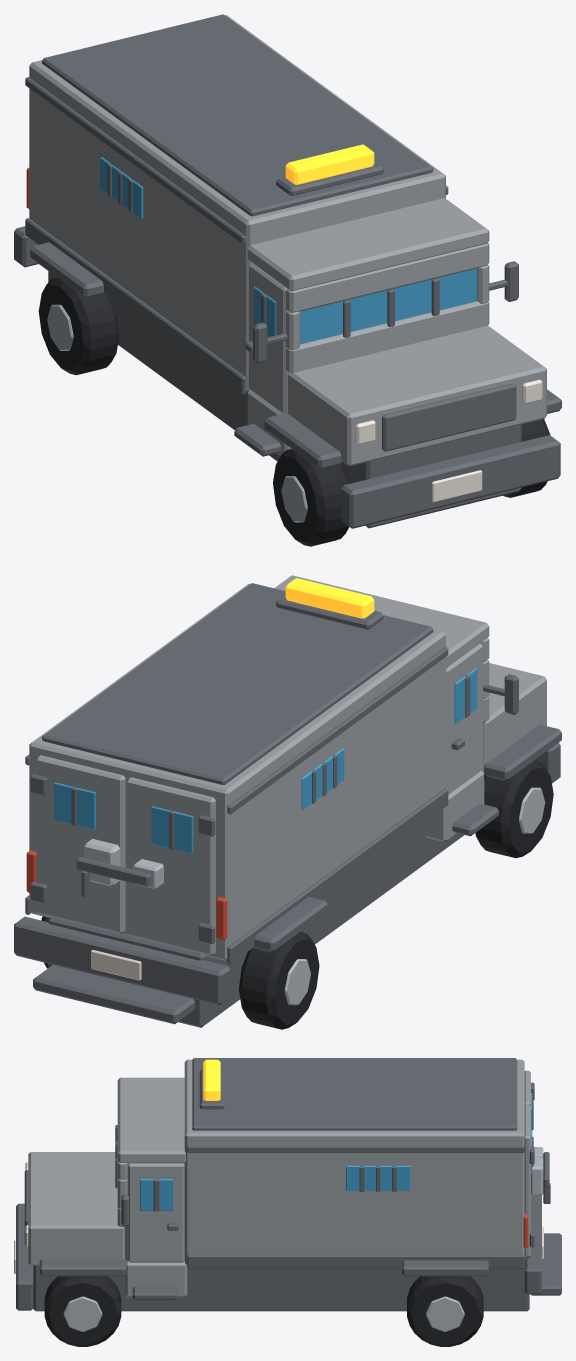
The model's file is armoured-cash-van.glb.
3 views of the same model, one above another, from view 1: azimuth 30°, elevation 25°; view 2: azimuth 150°, elevation 25°; view 3: azimuth 270°, elevation 25° (orthographic). The views are drawn at different scales.
Parts seen in each view (by area): view 1: CashVan, Wheel_RR, Wheel_FR, Door_Passenger, RoofLight, Wheel_FL; view 2: CashVan, Door_RearR, Door_RearL, Wheel_RR, Wheel_FR, Door_Passenger, RoofLight; view 3: CashVan, Door_Driver, Wheel_FL, Wheel_RL, Door_RearR, RoofLight, Door_RearL.
Boxes of the visible parts, x1,y1,x2,y2 form: CashVan: (14, 14, 561, 528); Wheel_RR: (38, 277, 119, 375); Wheel_FR: (273, 448, 350, 546); Door_Passenger: (245, 262, 288, 413); RoofLight: (276, 144, 383, 195); Wheel_FL: (503, 419, 550, 497); CashVan: (14, 575, 561, 1027); Door_RearR: (30, 755, 150, 933); Door_RearL: (126, 777, 215, 955); Wheel_RR: (238, 931, 319, 1029); Wheel_FR: (475, 760, 553, 858); Door_Passenger: (446, 643, 482, 794); RoofLight: (276, 578, 383, 629); CashVan: (14, 1058, 561, 1311); Door_Driver: (127, 1163, 184, 1262); Wheel_FL: (44, 1276, 121, 1346); Wheel_RL: (407, 1276, 483, 1346); Door_RearR: (524, 1104, 550, 1257); RoofLight: (199, 1059, 224, 1109); Door_RearL: (524, 1070, 543, 1158).
Size of the model in its own units: 9.5 by 10.25 by 22.08.
